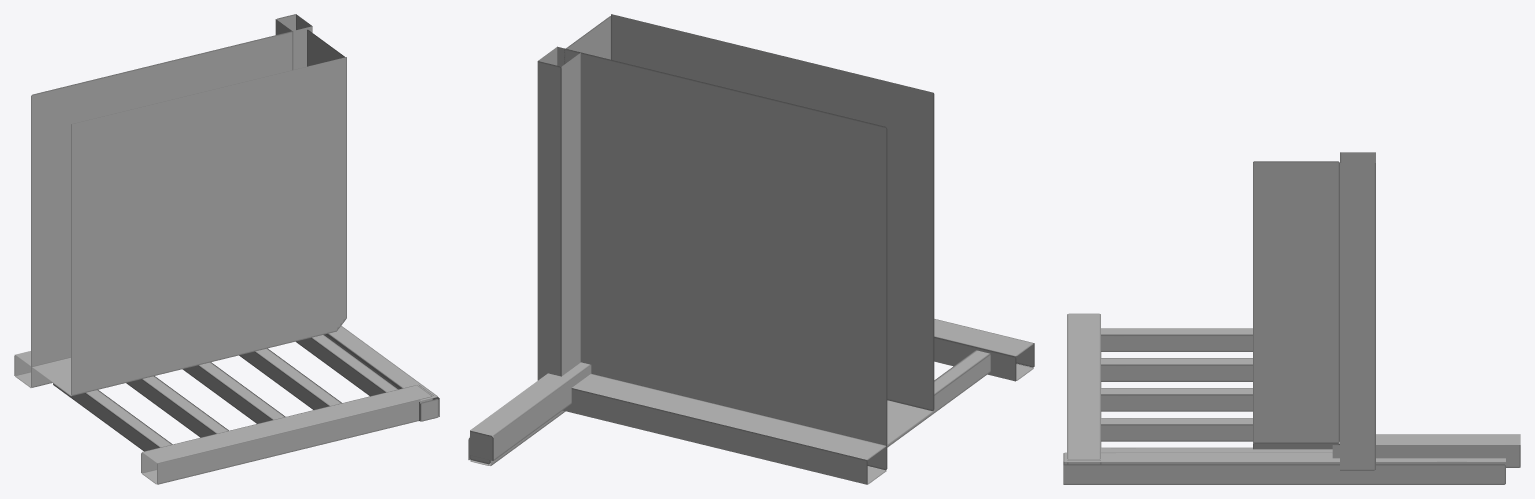
File: pz_bed_bedding_01_large_fancy_1_0.obj
3 views of the same model, side by side, from view 1: azimuth 30°, elevation 25°; view 2: azimuth 150°, elevation 25°; view 3: azimuth 270°, elevation 25° (orthographic). The views are drawn at different scales.
Size of the model in its own units: 0.975 by 0.985 by 1.26.
1 material, 1 textured.
